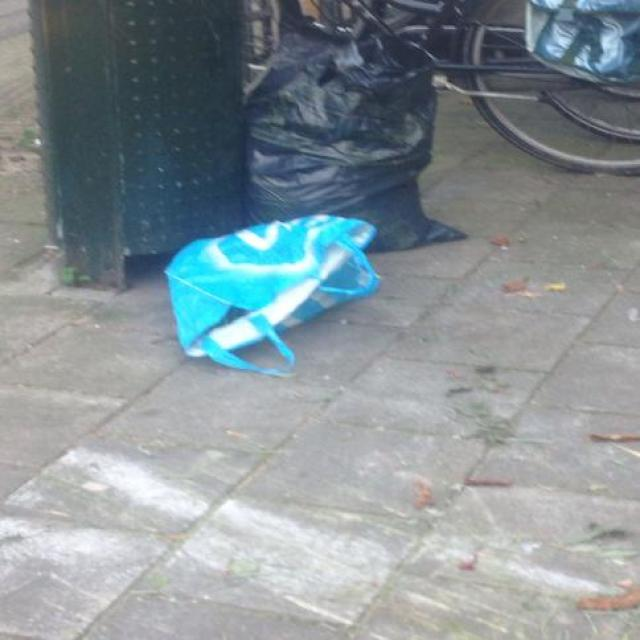Anorganik: (248, 3, 462, 265), (142, 190, 390, 365)
